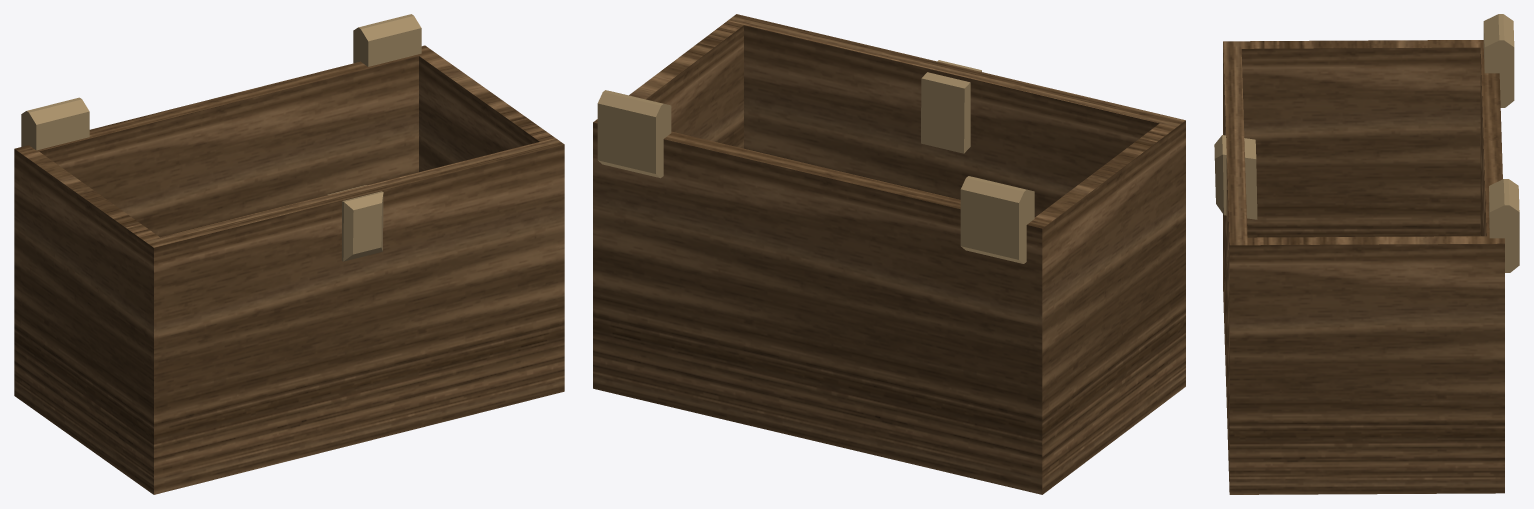
The model's file is Chest2.obj.
The picture shows the model from 3 angles, left to right: view 1: azimuth 30°, elevation 25°; view 2: azimuth 150°, elevation 25°; view 3: azimuth 270°, elevation 25°; orthographic projection. The views are drawn at different scales.
Visible parts, largest first — view 1: chest.001_Cube.388; view 2: chest.001_Cube.388; view 3: chest.001_Cube.388.
Part boxes in pixels (x1,y1,x2,y2): chest.001_Cube.388: (14,14,564,494); chest.001_Cube.388: (593,14,1185,494); chest.001_Cube.388: (1214,14,1519,494).
Size of the model in its own units: 2.43 by 1.56 by 1.53.
